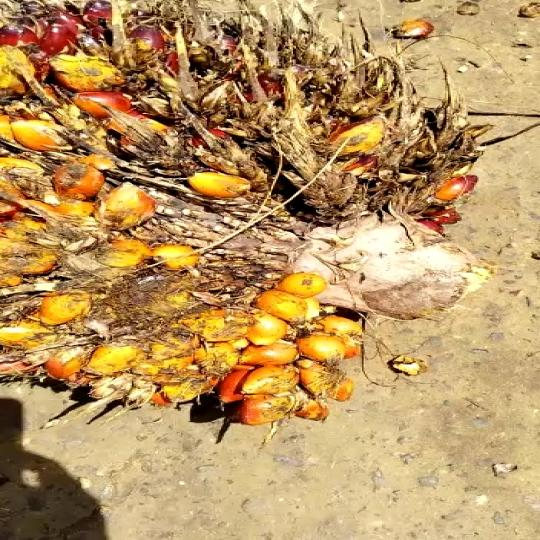masak: (0, 0, 495, 432)
